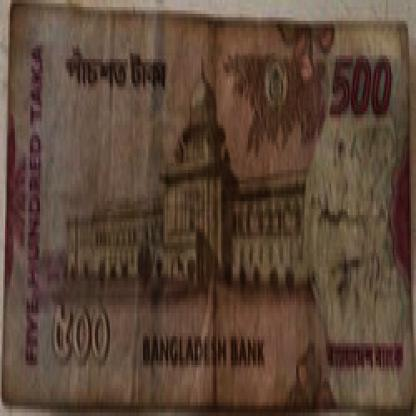500 taka: (332, 45, 394, 132), (42, 294, 112, 367)
Five Hundred taka: (48, 45, 164, 108)
currency: (0, 0, 410, 406)
